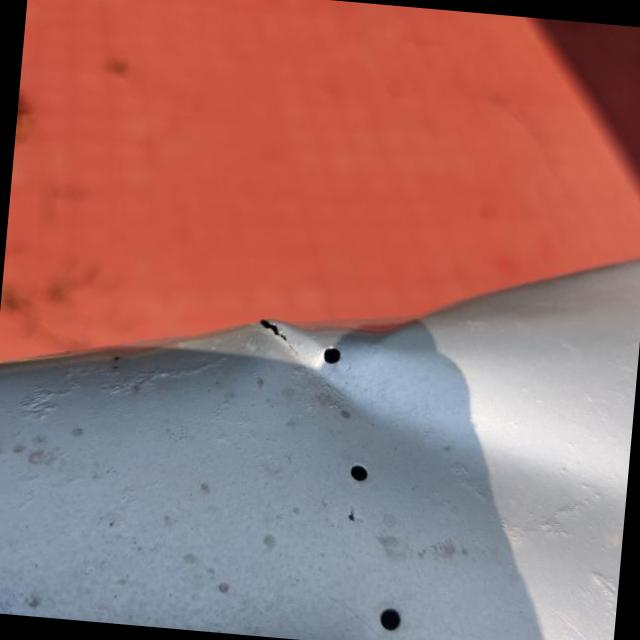Crack: (244, 319, 311, 366)
Dent: (215, 272, 595, 461)
